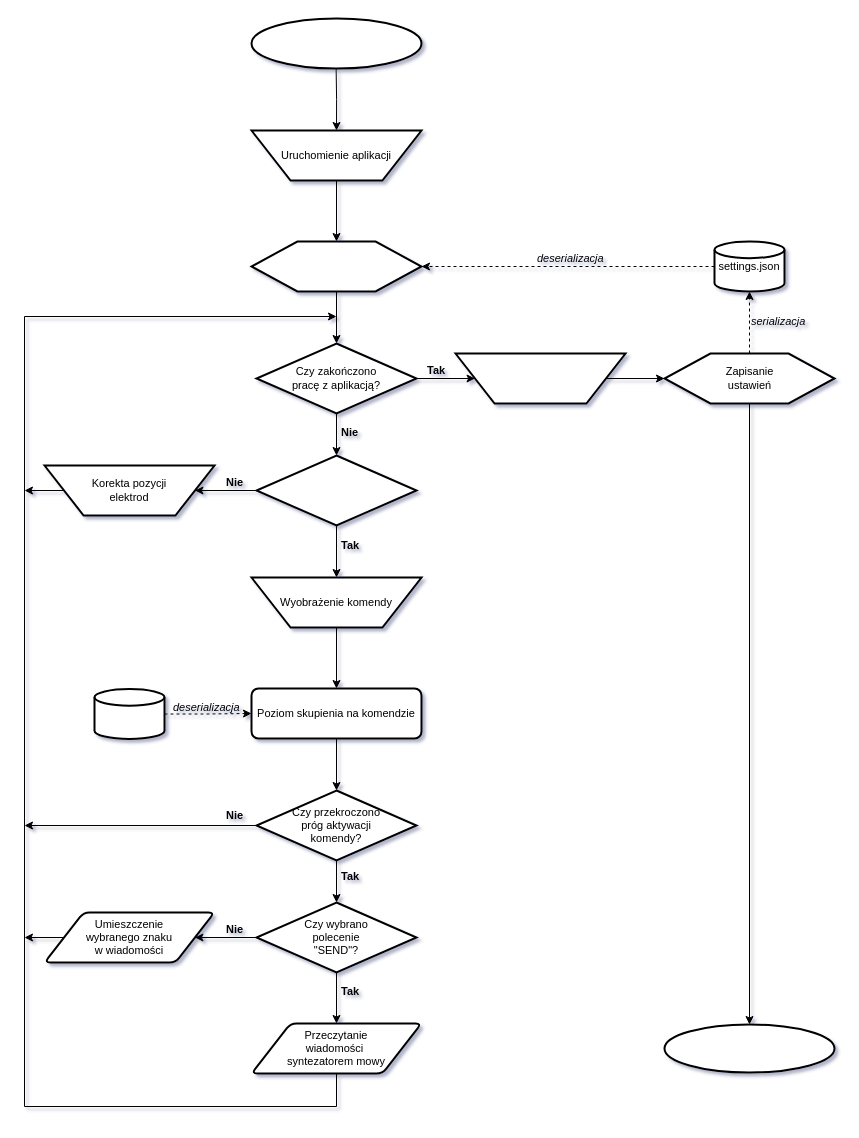
The diagram is 859 pixels wide and 1138 high, and some of its shapes have lost their labels. Here are the shapes that lost their labels. From the top down, the centre of each, then its label:
[336,43]: Start
[336,266]: Wczytanie ustawień
[540,378]: Wyłączenie aplikacji
[336,490]: Czy uzyskano dobrą jakość połączenia?
[129,714]: Cortex API
[749,1048]: Stop
